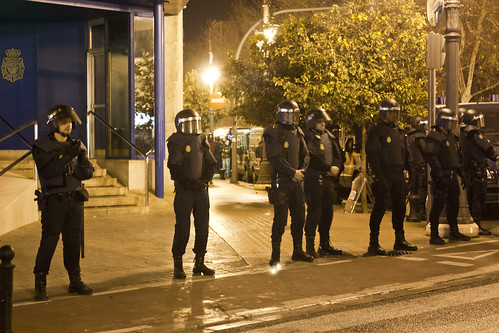policeman: (161, 106, 217, 290), (39, 110, 90, 303), (364, 98, 412, 252), (264, 97, 308, 264), (303, 107, 342, 256), (427, 111, 467, 236)
tree: (243, 3, 426, 111)
